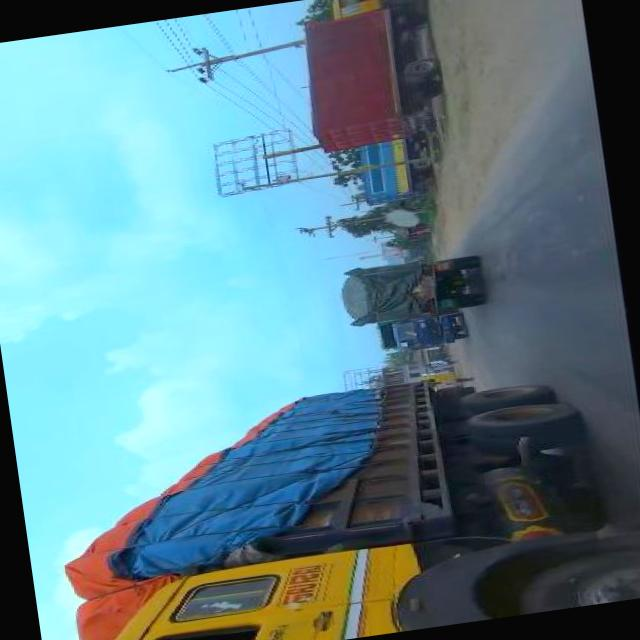truck: (35, 348, 640, 640), (293, 0, 441, 152), (331, 248, 484, 326), (351, 134, 434, 203), (370, 310, 468, 356)
